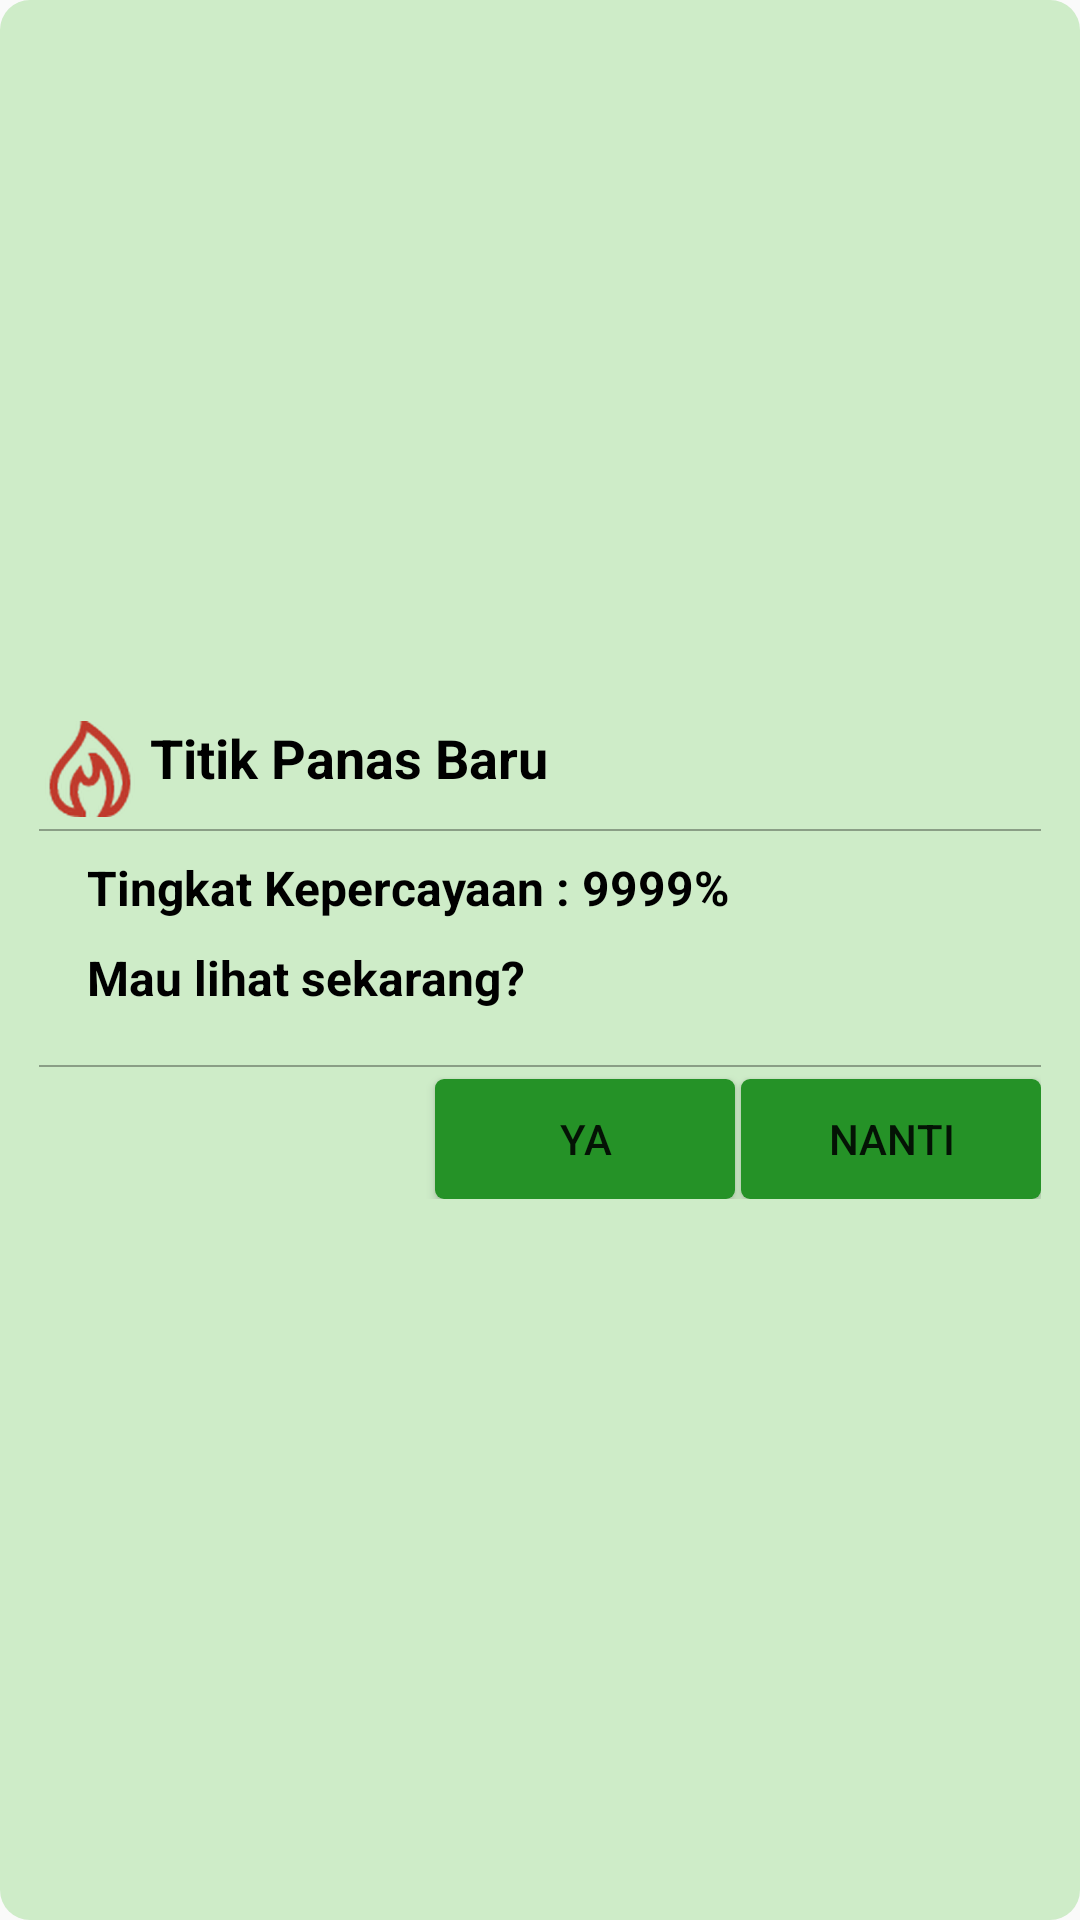

Icon bounding boxes for this 1080×1920 phone screenshot, format (x1, y1, x2, y2):
fire: (49, 721, 131, 817)
